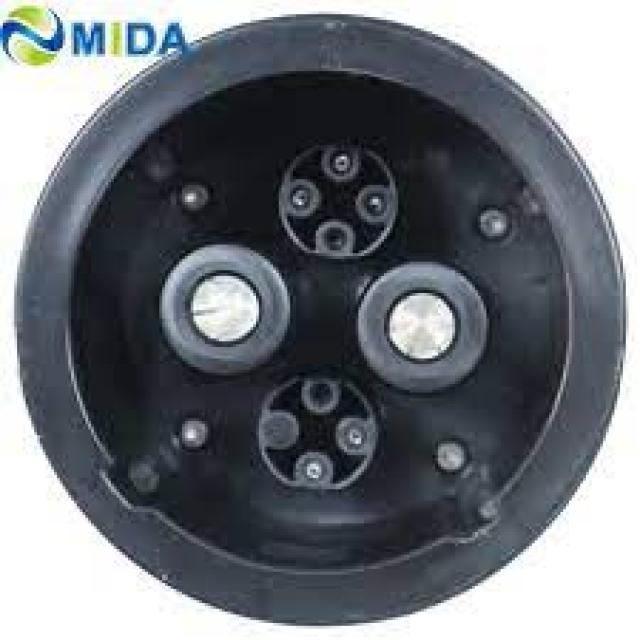CHAdeMO: (102, 108, 542, 526)
